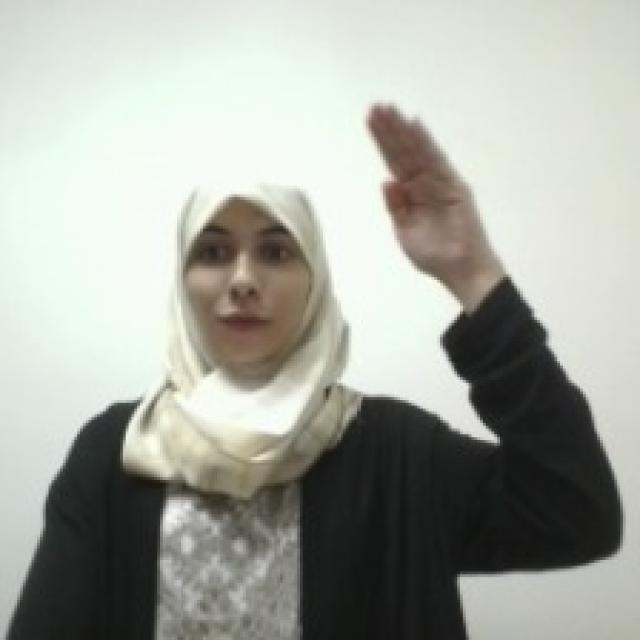Thanks: (362, 94, 482, 276)
